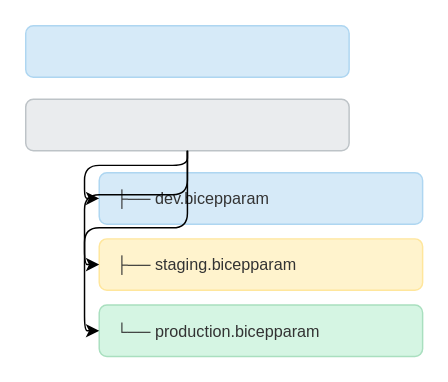
Some shapes in this 448 by 382 pixel diagram are drawn without their labels. The centre of each missing label's shape, as x and y in pixels:
├── main.bicep: (186,50)
├── parameters/: (186,124)
